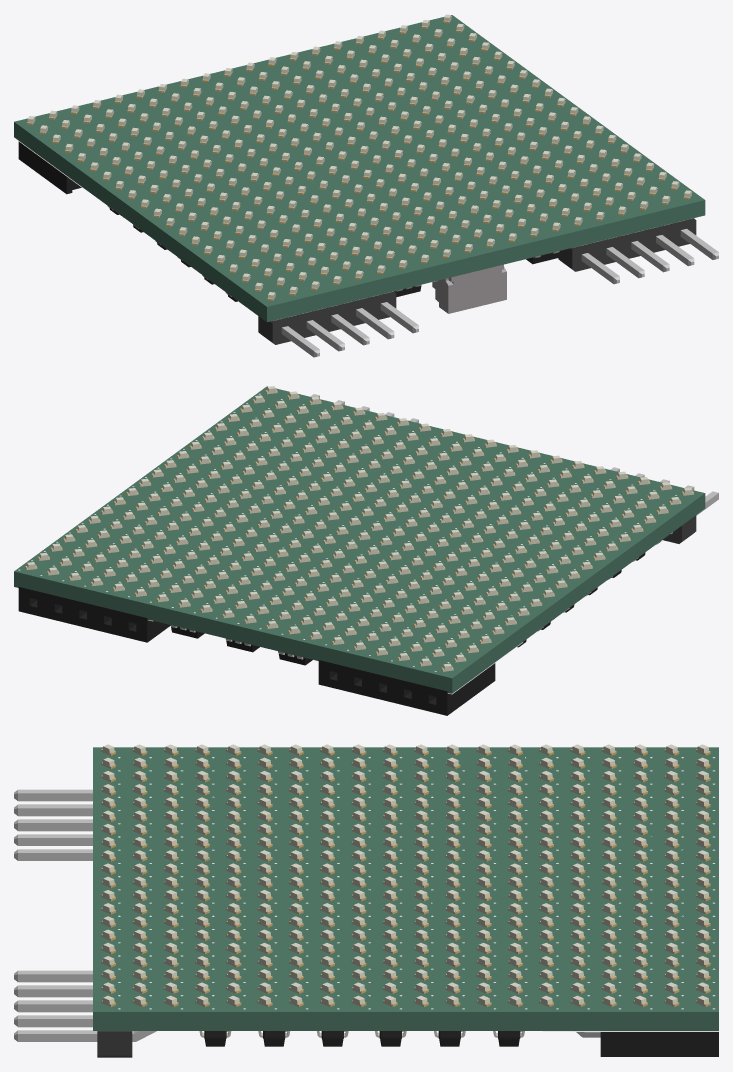
File: panel_rp2354_20x20-v0.5.0.glb
The picture shows the model from 3 angles, top to bottom: view 1: azimuth 30°, elevation 25°; view 2: azimuth 150°, elevation 25°; view 3: azimuth 270°, elevation 25°; orthographic projection. The views are drawn at different scales.
Visible parts, largest first — view 1: =>[0:1:1:38], insulation_001 (×2), =>[0:1:1:13], =>[0:1:1:35]; view 2: =>[0:1:1:38], =>[0:1:1:35] (×2), =>[0:1:1:36]; view 3: =>[0:1:1:38], =>[0:1:1:35], pin_005 (×2), pin_001 (×2), pin_002 (×2), pin_003 (×2), pin_004 (×2), =>[0:1:1:36], insulation_001.
Part boxes in pixels (<box>): =>[0:1:1:38]: <box>14,15,705,322</box>; insulation_001 (×2): <box>258,218,696,344</box>; =>[0:1:1:13]: <box>432,264,506,313</box>; =>[0:1:1:35]: <box>18,141,81,194</box>; =>[0:1:1:38]: <box>14,386,705,693</box>; =>[0:1:1:35] (×2): <box>18,587,495,715</box>; =>[0:1:1:36]: <box>18,393,676,671</box>; =>[0:1:1:38]: <box>93,747,718,1030</box>; =>[0:1:1:35]: <box>576,1032,718,1056</box>; pin_005 (×2): <box>14,849,156,1041</box>; pin_001 (×2): <box>14,789,92,982</box>; pin_002 (×2): <box>14,804,92,997</box>; pin_003 (×2): <box>14,819,92,1012</box>; pin_004 (×2): <box>14,834,92,1027</box>; =>[0:1:1:36]: <box>118,757,715,1009</box>; insulation_001: <box>97,1031,132,1057</box>.
Bounding box in the file's own units: 0.045 × 0.0065 × 0.0507.
